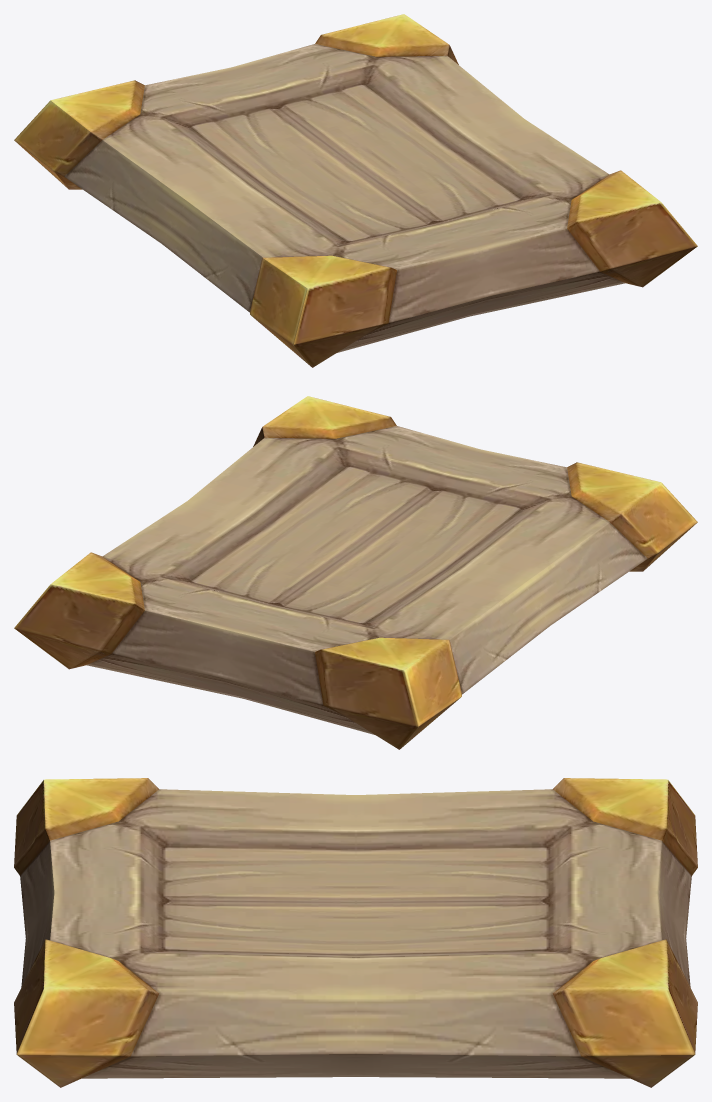
3 renders of one model, top to bottom at view 1: azimuth 30°, elevation 25°; view 2: azimuth 150°, elevation 25°; view 3: azimuth 270°, elevation 25°, orthographic. The views are drawn at different scales.
Bounding box in the file's own units: 1.29 × 0.2646 × 1.55.
Materials: 1 (1 with a texture image).
